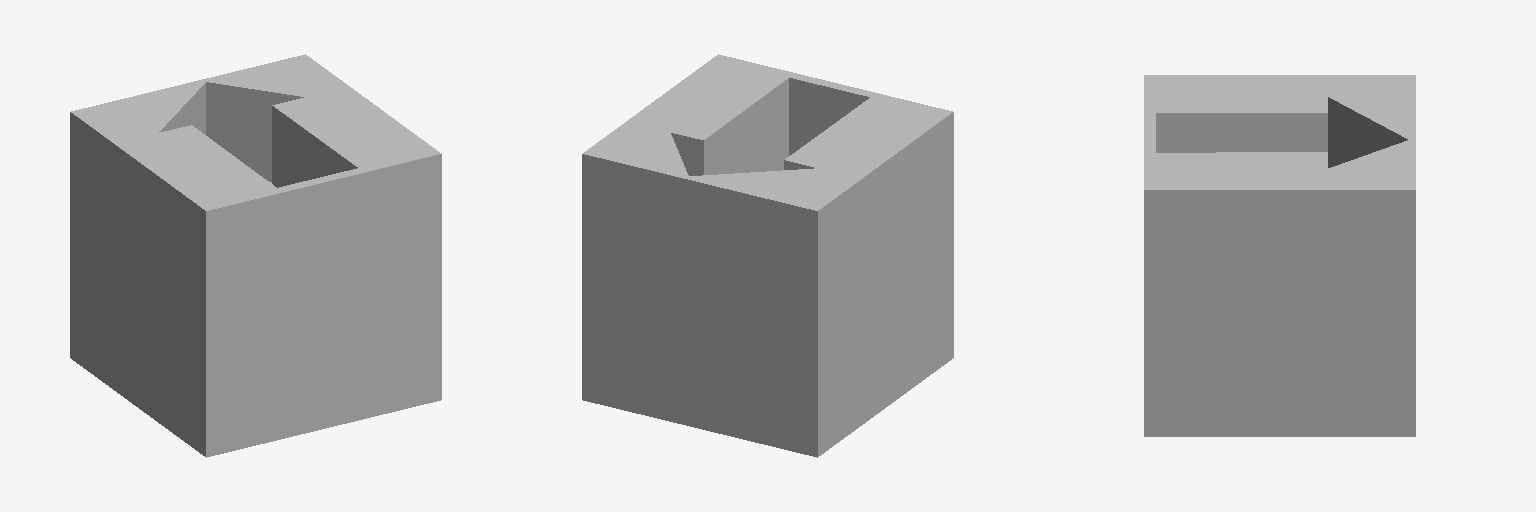
Rendered from Arrow_cube_bottle_preprocessed.obj.
The picture shows the model from 3 angles: view 1: azimuth 30°, elevation 25°; view 2: azimuth 150°, elevation 25°; view 3: azimuth 270°, elevation 25°; orthographic projection.
Bounding box in the file's own units: 0.08 × 0.08 × 0.08.